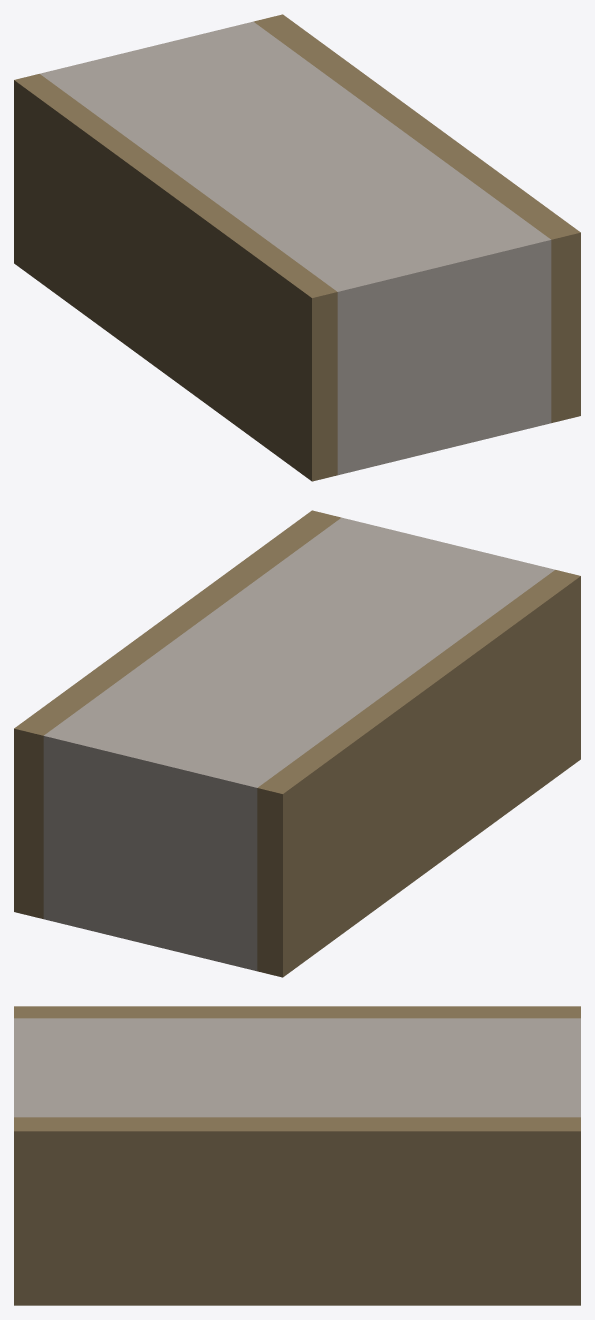
Rendered from human-household-items-stack-of-cash_v1.glb.
The picture shows the model from 3 angles, top to bottom: view 1: azimuth 30°, elevation 25°; view 2: azimuth 150°, elevation 25°; view 3: azimuth 270°, elevation 25°; orthographic projection. The views are drawn at different scales.
Visible parts, largest first — view 1: Stack of Cash; view 2: Stack of Cash; view 3: Stack of Cash.
Boxes of the visible parts, left/top/right/bottom form: Stack of Cash: left=14, top=14, right=580, bottom=481; Stack of Cash: left=14, top=510, right=580, bottom=977; Stack of Cash: left=14, top=1006, right=580, bottom=1305.
Bounding box in the file's own units: 0.0833 × 0.0543 × 0.16.
